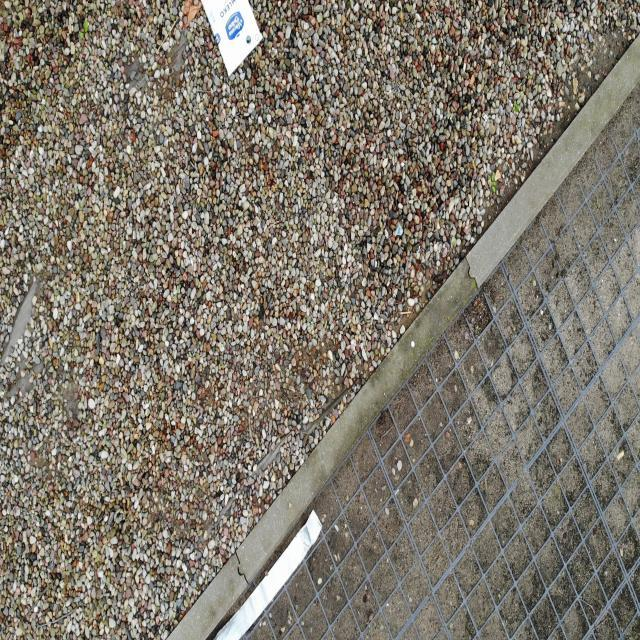rubbish: (214, 510, 323, 639), (201, 0, 263, 76)
